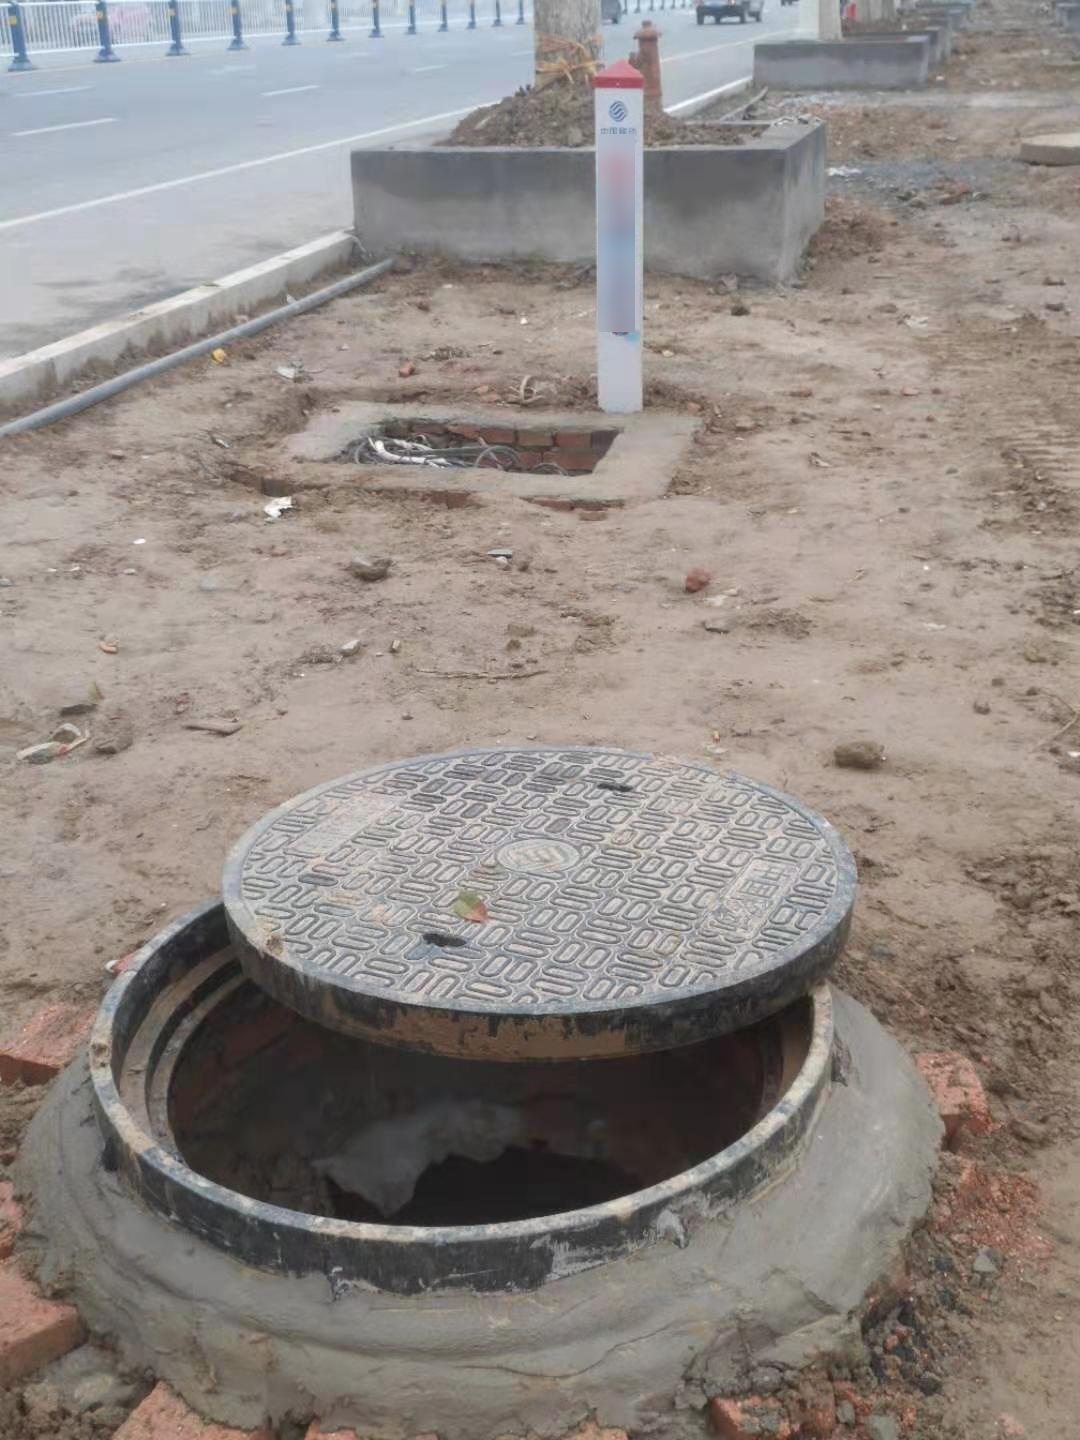uncovered: (92, 742, 854, 1284)
